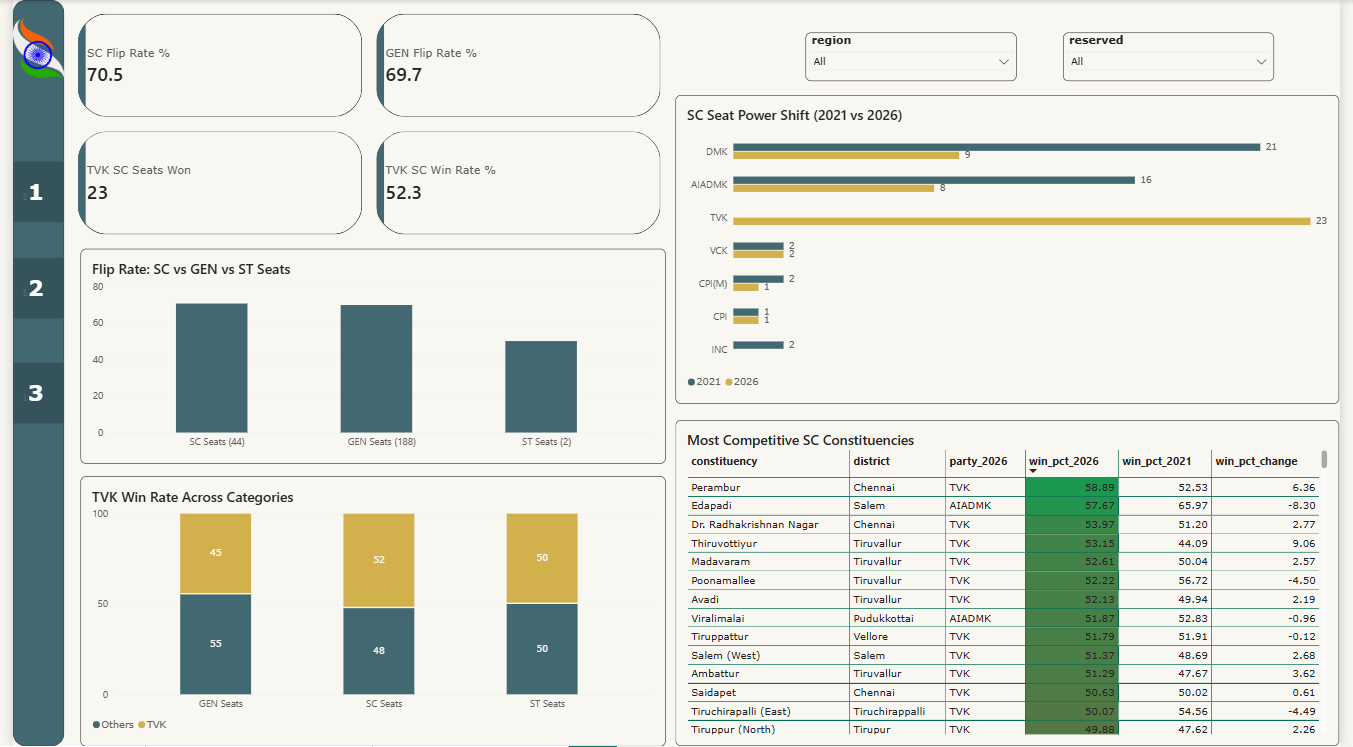

This screenshot's page, from the dashboard's own definition file:
{"tool":"powerbi","page":{"name":"The Reserved Seat Verdict","canvas":[1920,1080],"ordinal":1},"visuals":[{"type":"shape","box":[0,0,74.2,1080.4],"z":0,"group":"g4"},{"type":"cardVisual","fields":{"Data":["kpi_table.SC Flip Rate %","kpi_table.GEN Flip Rate %","kpi_table.TVK SC Seats Won","kpi_table.TVK SC Win Rate %"]},"box":[74.2,0,884.9,360.1],"z":0},{"type":"actionButton","title":"1","box":[0,233.4,74.2,88.7],"z":0,"group":"g1"},{"type":"actionButton","title":"1","box":[0,372.8,74.2,88.7],"z":0,"group":"g2"},{"type":"actionButton","title":"1","box":[0,524.8,74.2,88.7],"z":0,"group":"g3"},{"type":"clusteredBarChart","title":"SC Seat Power Shift (2021 vs 2026)","fields":{"Y":["Sum(SC Party Summary.SC Seats)"],"Category":["SC Party Summary.Party"],"Series":["SC Party Summary.Year"]},"box":[959.1,137.5,960.9,447],"z":1000},{"type":"group","id":"g1","title":"Group 1","box":[0,233.4,74.2,88.7],"z":1000,"group":"g4"},{"type":"textbox","box":[12.7,256.9,39.8,41.6],"z":1000,"group":"g1"},{"type":"textbox","box":[12.7,396.3,39.8,41.6],"z":1000,"group":"g2"},{"type":"textbox","box":[12.7,548.3,39.8,41.6],"z":1000,"group":"g3"},{"type":"group","id":"g2","title":"Group 1","box":[0,372.8,74.2,88.7],"z":2000,"group":"g4"},{"type":"columnChart","title":"TVK Win Rate Across Categories ","fields":{"Category":["TVK Win Rate by Category.Category"],"Y":["Sum(TVK Win Rate by Category.Rate)"],"Series":["TVK Win Rate by Category.Party"]},"box":[97.7,689.5,846.9,390.9],"z":2000},{"type":"slicer","fields":{"Values":["constituency_results.region"]},"box":[1147.3,47.1,305.8,70.6],"z":3000},{"type":"group","id":"g3","title":"Group 1","box":[0,524.8,74.2,88.7],"z":3000,"group":"g4"},{"type":"slicer","fields":{"Values":["constituency_results.reserved"]},"box":[1520.1,47.1,305.8,70.6],"z":4000},{"type":"clusteredColumnChart","title":"Flip Rate: SC vs GEN vs ST Seats","fields":{"Y":["Sum(Flip Rate Comparison.Flip Rate)"],"Category":["Flip Rate Comparison.Category"]},"box":[97.7,360.1,846.9,311.3],"z":5000},{"type":"tableEx","title":"Most Competitive SC Constituencies","fields":{"Values":["constituency_results.constituency","constituency_results.district","constituency_results.party_2026","constituency_results.win_pct_2026","constituency_results.win_pct_2021","constituency_results.win_pct_change"]},"box":[959.1,608,960.9,472.3],"z":6000},{"type":"group","id":"g4","title":"Group 2","box":[0,0,74.2,1080.4],"z":7000},{"type":"image","box":[0,23.5,74.2,94.1],"z":8000}]}

Visuals, with their boxes in screenshot pixels (x1, y1, x2, y2), scaled from the page's 1920x1080 canvas onto the 1353x747 screenshot:
shape: <bbox>0, 0, 52, 746</bbox>
cardVisual - kpi_table.SC Flip Rate % x kpi_table.GEN Flip Rate %: <bbox>52, 0, 676, 249</bbox>
"1" actionButton: <bbox>0, 161, 52, 223</bbox>
"1" actionButton: <bbox>0, 258, 52, 319</bbox>
"1" actionButton: <bbox>0, 363, 52, 424</bbox>
"SC Seat Power Shift (2021 vs 2026)" clusteredBarChart: <bbox>676, 95, 1352, 404</bbox>
"Group 1" group: <bbox>0, 161, 52, 223</bbox>
textbox: <bbox>9, 178, 37, 206</bbox>
textbox: <bbox>9, 274, 37, 303</bbox>
textbox: <bbox>9, 379, 37, 408</bbox>
"Group 1" group: <bbox>0, 258, 52, 319</bbox>
"TVK Win Rate Across Categories " columnChart: <bbox>69, 477, 666, 746</bbox>
slicer - constituency_results.region: <bbox>808, 33, 1024, 81</bbox>
"Group 1" group: <bbox>0, 363, 52, 424</bbox>
slicer - constituency_results.reserved: <bbox>1071, 33, 1287, 81</bbox>
"Flip Rate: SC vs GEN vs ST Seats" clusteredColumnChart: <bbox>69, 249, 666, 464</bbox>
"Most Competitive SC Constituencies" tableEx: <bbox>676, 421, 1352, 746</bbox>
"Group 2" group: <bbox>0, 0, 52, 746</bbox>
image: <bbox>0, 16, 52, 81</bbox>
